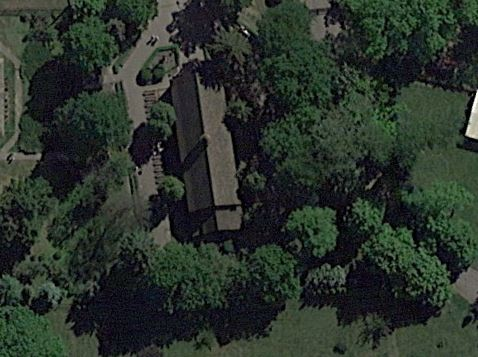family house: (165, 63, 249, 246)
